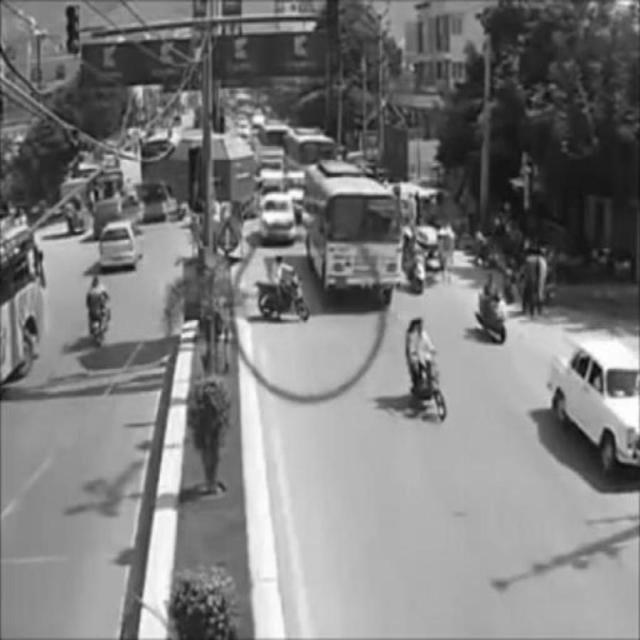vehicle: (544, 334, 640, 476), (308, 168, 398, 309), (405, 316, 447, 422), (255, 256, 310, 326), (98, 223, 145, 275), (475, 271, 509, 342), (84, 274, 111, 348), (258, 192, 296, 243)
